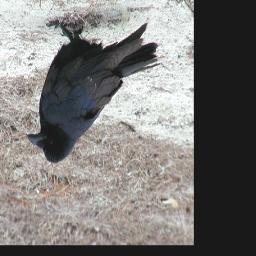Crow: (27, 18, 160, 165)
